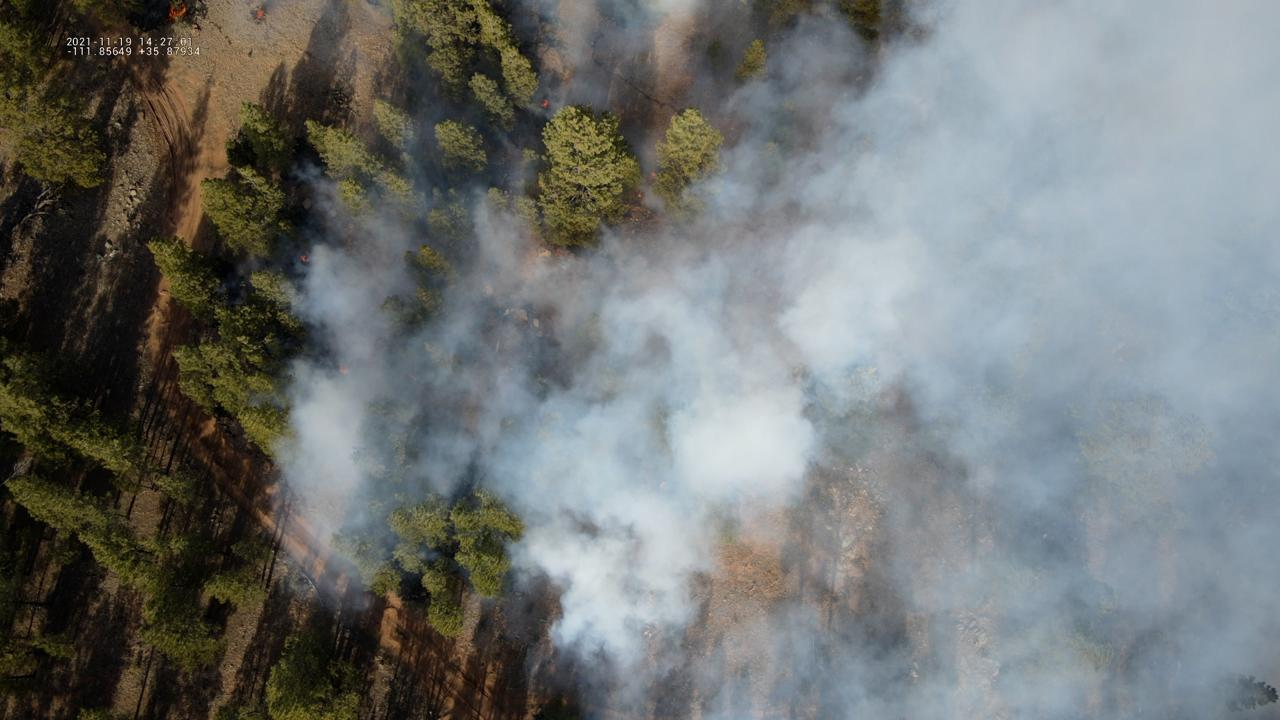fire: (167, 1, 188, 23), (254, 8, 266, 20), (539, 98, 549, 110), (300, 255, 310, 266)
smoke: (221, 0, 1280, 720)
